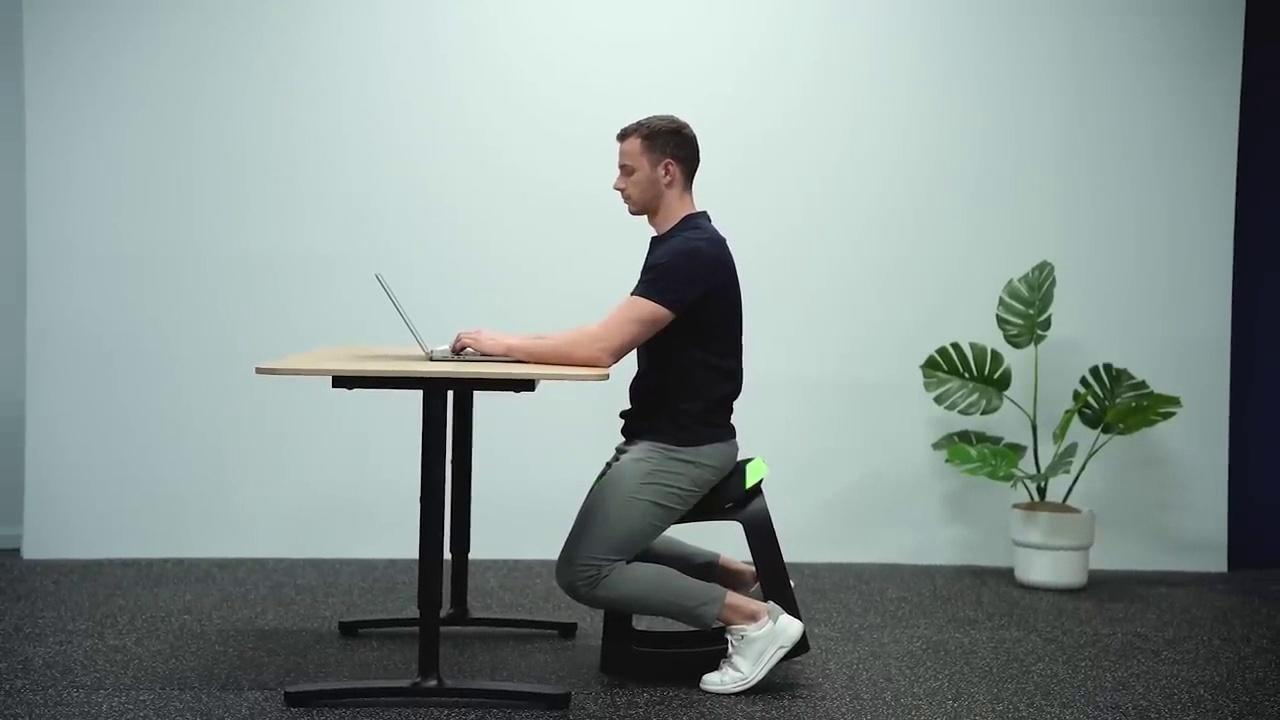GoodPosture: (453, 115, 804, 693)
